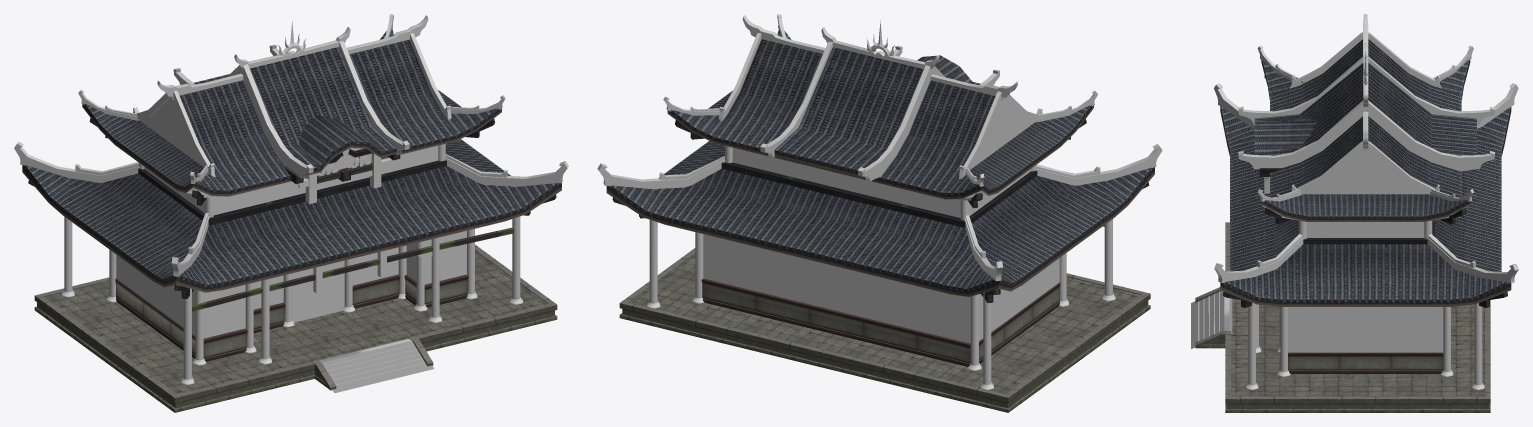
File: JiaYeSi_PianDian_1.FBX
3 views of the same model, side by side, from view 1: azimuth 30°, elevation 25°; view 2: azimuth 150°, elevation 25°; view 3: azimuth 270°, elevation 25° (orthographic). The views are drawn at different scales.
Parts seen in each view (by area): view 1: JiaYeSi_PianDian_1b, JiaYeSi_PianDian_1i, JiaYeSi_PianDian_1e, JiaYeSi_PianDian_1a, JiaYeSi_PianDian_1h, JiaYeSi_PianDian_1c, JiaYeSi_PianDian_1g, JiaYeSi_PianDian_1f, JiaYeSi_PianDian_1_Xzm, JiaYeSi_PianDian_1k, JiaYeSi_PianDian_1j; view 2: JiaYeSi_PianDian_1b, JiaYeSi_PianDian_1f, JiaYeSi_PianDian_1a, JiaYeSi_PianDian_1i, JiaYeSi_PianDian_1h, JiaYeSi_PianDian_1g, JiaYeSi_PianDian_1e, JiaYeSi_PianDian_1c; view 3: JiaYeSi_PianDian_1b, JiaYeSi_PianDian_1a, JiaYeSi_PianDian_1i, JiaYeSi_PianDian_1f, JiaYeSi_PianDian_1h, JiaYeSi_PianDian_1e, JiaYeSi_PianDian_1g, JiaYeSi_PianDian_1c, JiaYeSi_PianDian_1_Xzm, JiaYeSi_PianDian_1j.
Part boxes in pixels (<box>): JiaYeSi_PianDian_1b: <box>22,28,561,292</box>; JiaYeSi_PianDian_1i: <box>44,251,547,394</box>; JiaYeSi_PianDian_1e: <box>61,144,522,384</box>; JiaYeSi_PianDian_1a: <box>14,14,568,276</box>; JiaYeSi_PianDian_1h: <box>34,244,557,412</box>; JiaYeSi_PianDian_1c: <box>28,118,556,311</box>; JiaYeSi_PianDian_1g: <box>115,274,468,361</box>; JiaYeSi_PianDian_1f: <box>116,231,466,338</box>; JiaYeSi_PianDian_1_Xzm: <box>318,338,434,393</box>; JiaYeSi_PianDian_1k: <box>292,260,344,322</box>; JiaYeSi_PianDian_1j: <box>324,339,425,385</box>; JiaYeSi_PianDian_1b: <box>606,29,1154,296</box>; JiaYeSi_PianDian_1f: <box>703,234,1059,343</box>; JiaYeSi_PianDian_1a: <box>597,14,1162,281</box>; JiaYeSi_PianDian_1i: <box>629,254,1140,394</box>; JiaYeSi_PianDian_1h: <box>619,248,1150,412</box>; JiaYeSi_PianDian_1g: <box>701,278,1060,366</box>; JiaYeSi_PianDian_1e: <box>647,146,1115,389</box>; JiaYeSi_PianDian_1c: <box>612,119,1149,302</box>; JiaYeSi_PianDian_1b: <box>1220,39,1511,306</box>; JiaYeSi_PianDian_1a: <box>1214,14,1518,283</box>; JiaYeSi_PianDian_1i: <box>1231,298,1484,396</box>; JiaYeSi_PianDian_1f: <box>1288,307,1443,352</box>; JiaYeSi_PianDian_1h: <box>1195,222,1490,412</box>; JiaYeSi_PianDian_1e: <box>1246,177,1484,390</box>; JiaYeSi_PianDian_1g: <box>1288,352,1443,373</box>; JiaYeSi_PianDian_1c: <box>1223,76,1507,307</box>; JiaYeSi_PianDian_1_Xzm: <box>1191,291,1232,348</box>; JiaYeSi_PianDian_1j: <box>1198,291,1229,341</box>.
Bounding box in the file's own units: 5889 × 4137 × 4427.
